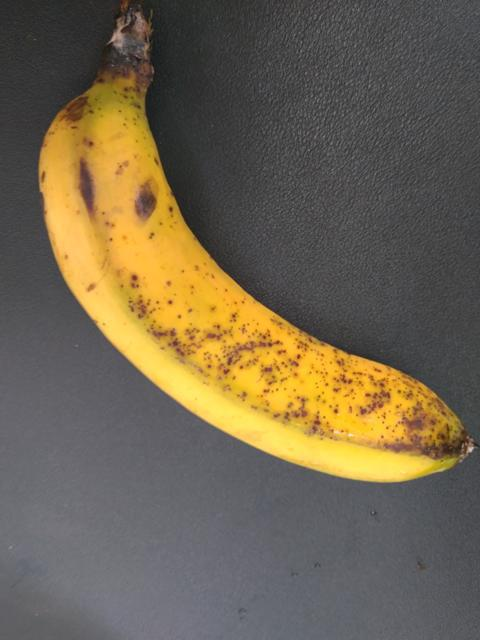ripe: (50, 91, 466, 523)
